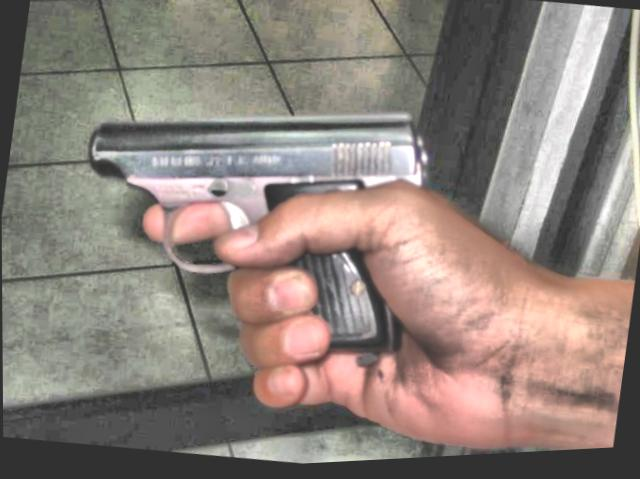pistol: (60, 67, 443, 377)
